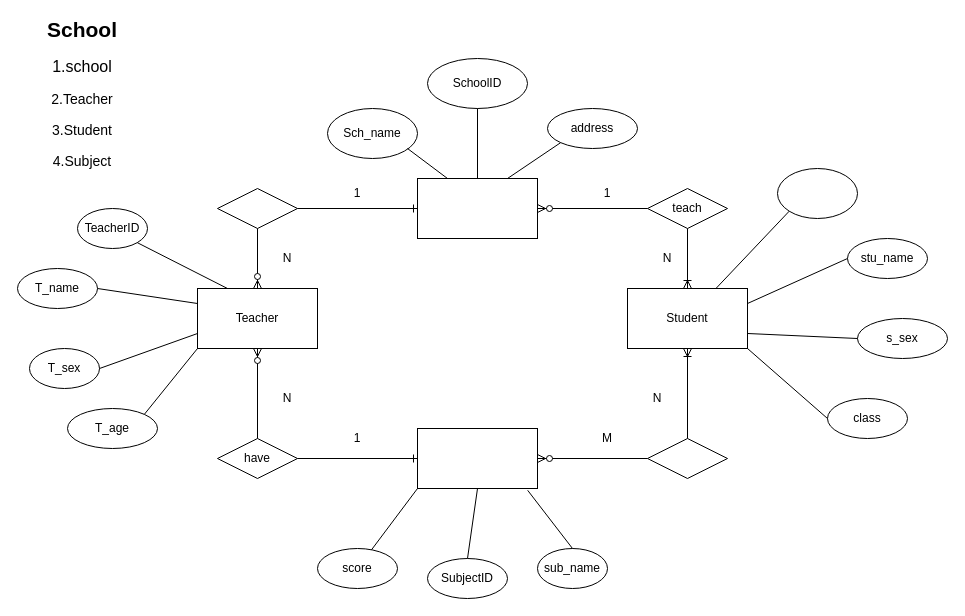
Image size: 965x616. Some labels were removed from this diagram. The centre of each missing label's shape, as x and y in pixels:
"hire" belongs at (x=257, y=208).
"School" belongs at (x=477, y=208).
"StudentID" belongs at (x=817, y=193).
"study" belongs at (x=687, y=458).
"Subject" belongs at (x=477, y=458).
